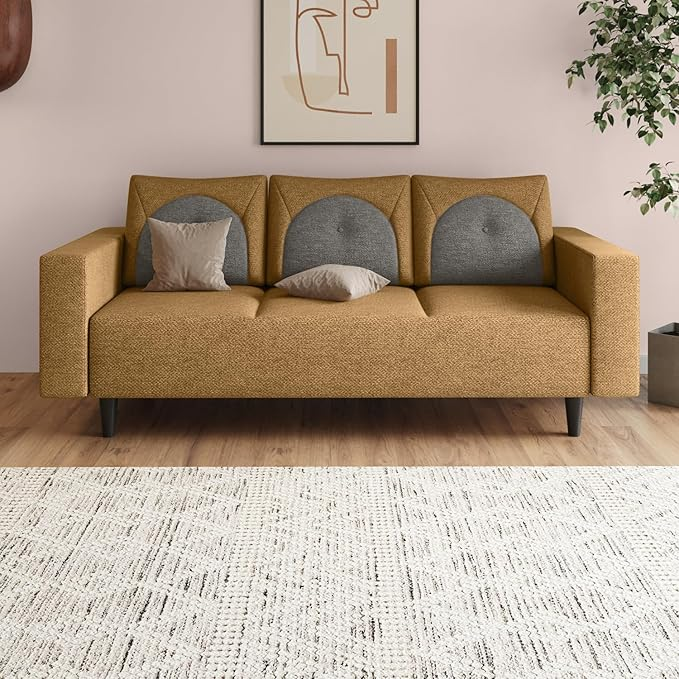3seatersofa: (41, 176, 637, 436)
backrest: (122, 173, 555, 285)
leftarmrest: (555, 222, 642, 398)
leg: (567, 398, 588, 438), (100, 398, 113, 432)
pillow: (143, 215, 233, 288), (275, 260, 388, 298)
rightarmrest: (40, 225, 122, 393)
seat: (88, 283, 595, 397)
